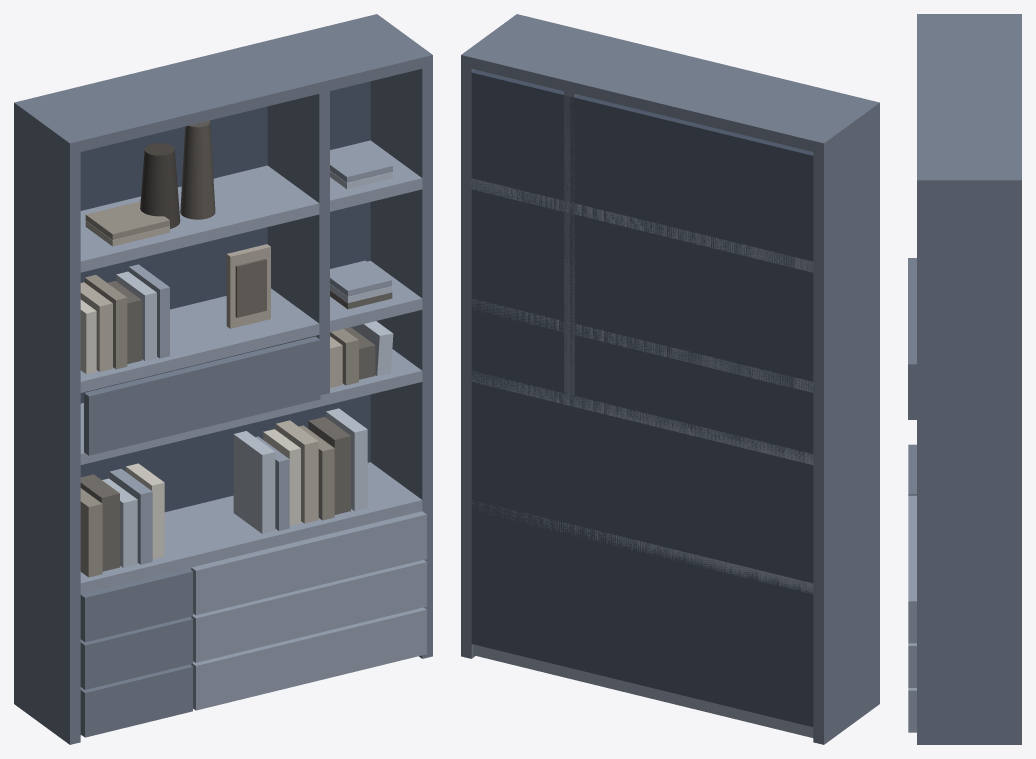
File: 书架-lite.glb
The picture shows the model from 3 angles, left to right: view 1: azimuth 30°, elevation 25°; view 2: azimuth 150°, elevation 25°; view 3: azimuth 270°, elevation 25°; orthographic projection. The views are drawn at different scales.
Visible parts, largest first — view 1: bookcase; view 2: bookcase; view 3: bookcase.
Part boxes in pixels (x1=…): bookcase: x1=14, y1=14, x2=432, y2=744; bookcase: x1=461, y1=14, x2=879, y2=744; bookcase: x1=908, y1=14, x2=1021, y2=744.
Size of the model in its own units: 1.2 by 1.9 by 0.347.
